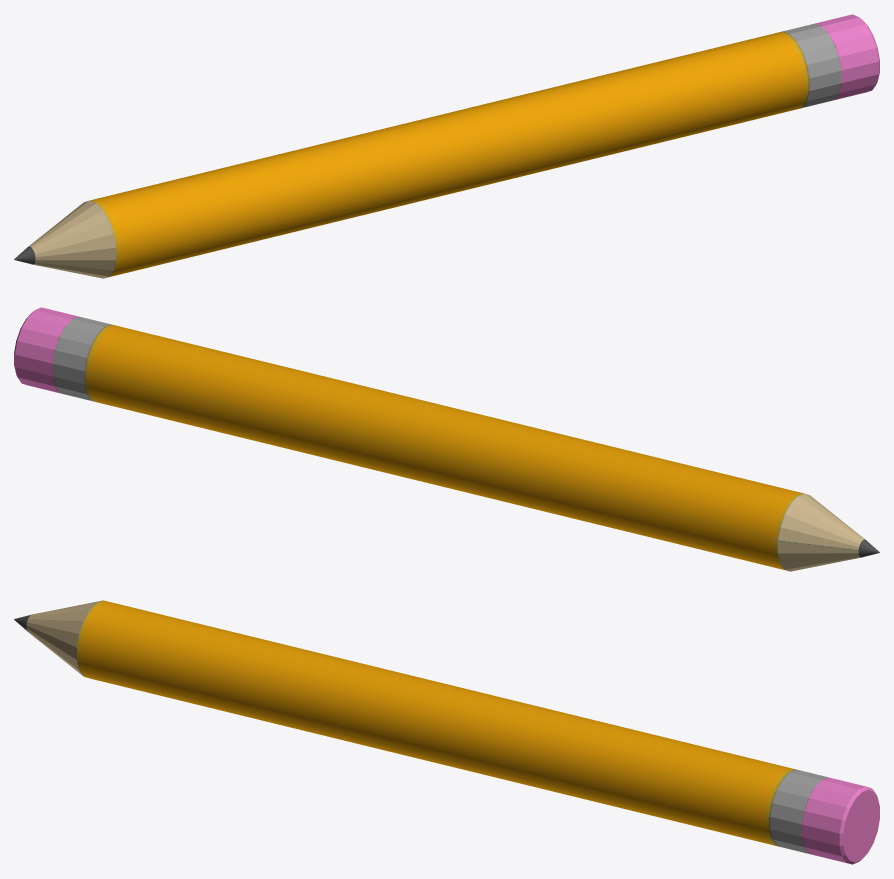
File: pencil.FBX
3 renders of one model, top to bottom at view 1: azimuth 30°, elevation 25°; view 2: azimuth 150°, elevation 25°; view 3: azimuth 330°, elevation 25°, orthographic.
Visible parts, largest first — view 1: Cylinder001; view 2: Cylinder001; view 3: Cylinder001.
Part boxes in pixels (bbox=[...]): Cylinder001: bbox=[14, 14, 879, 278]; Cylinder001: bbox=[14, 307, 879, 571]; Cylinder001: bbox=[14, 600, 879, 864].
Bounding box in the file's own units: 12.47 × 1.02 × 1.
Materials: 1 (1 with a texture image).
